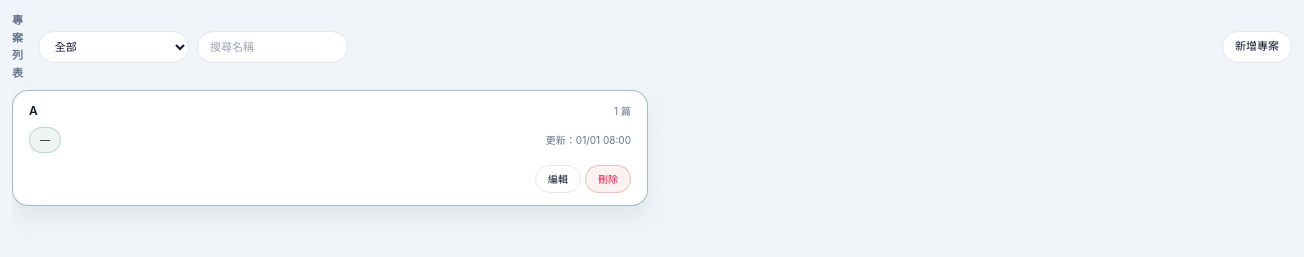
ProjectList CRUD UI › 新增專案後選取新專案並刷新列表
Expected: the text "A" is shown, [29,103,38,119]
Click the button "新增專案" at (1257, 47), box [1222,31,1292,63]
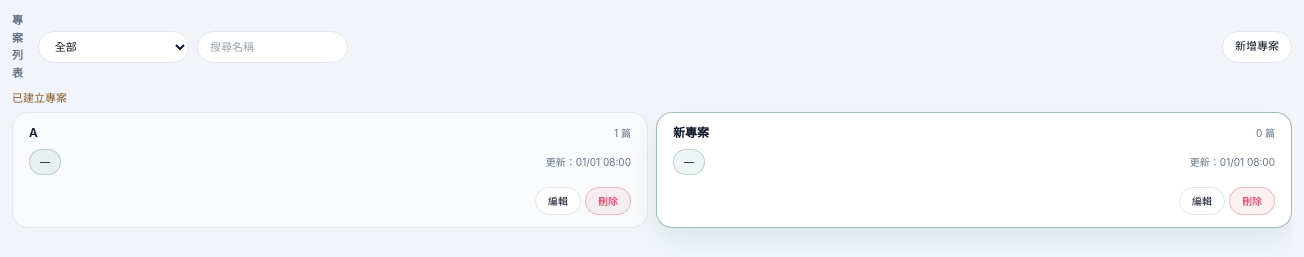
Result: the text "新專案" is shown at [673,125,709,141]
